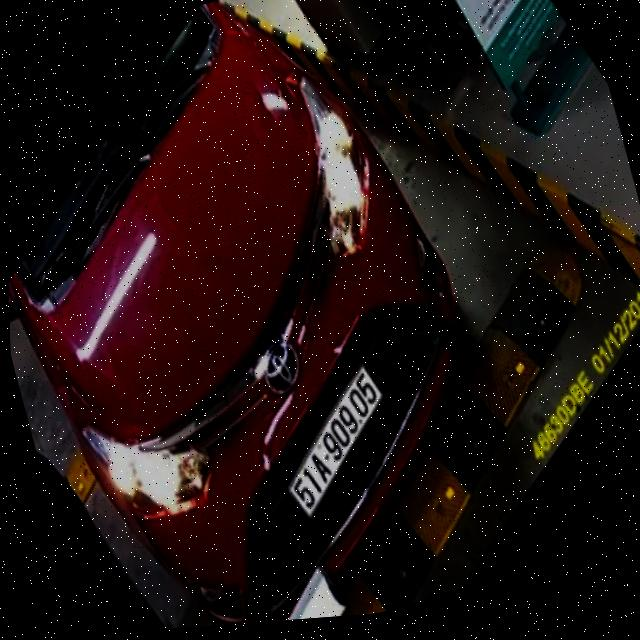car: (0, 0, 529, 640)
plate: (262, 359, 412, 527)
